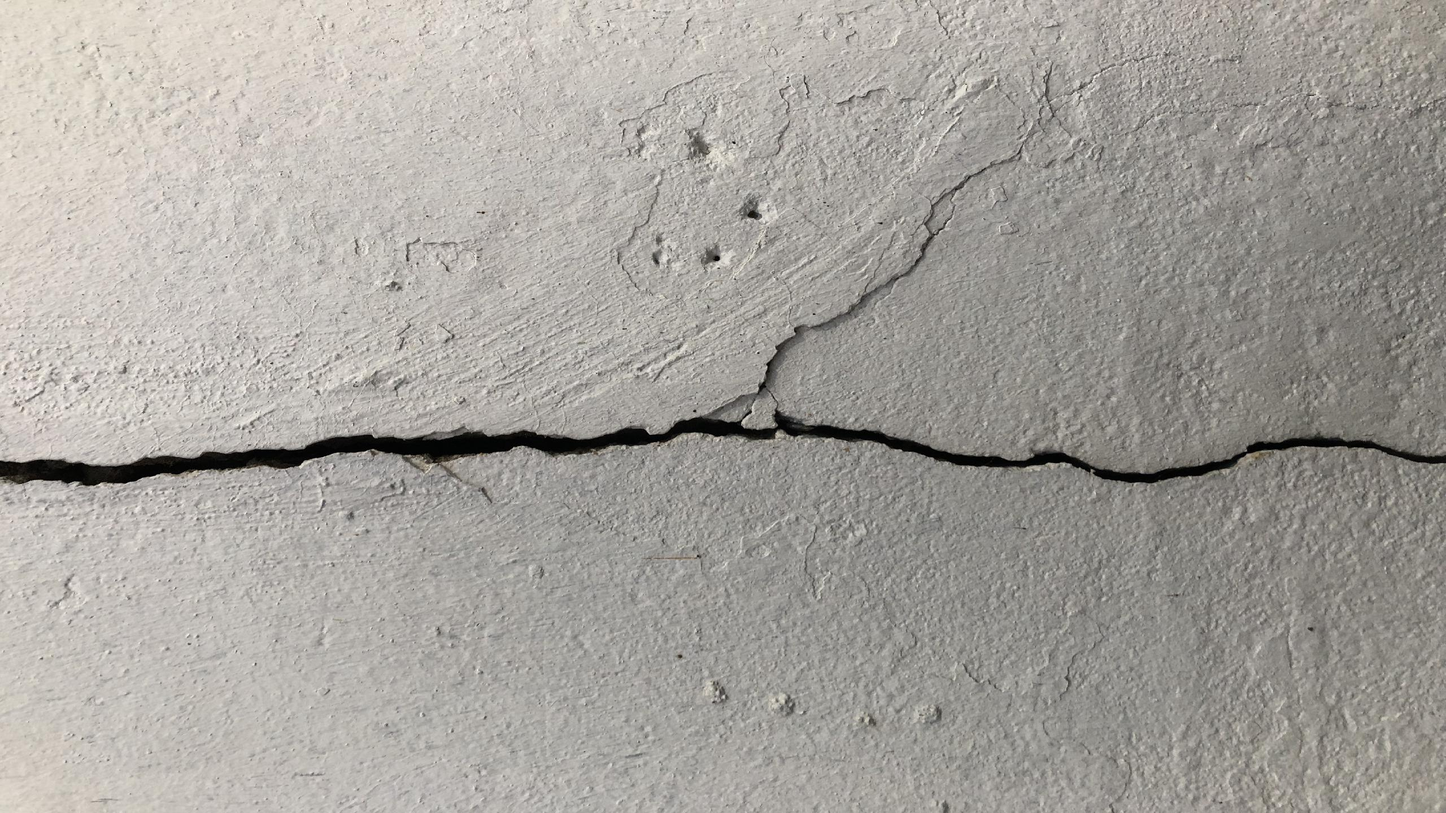crack: (1, 138, 1441, 488)
